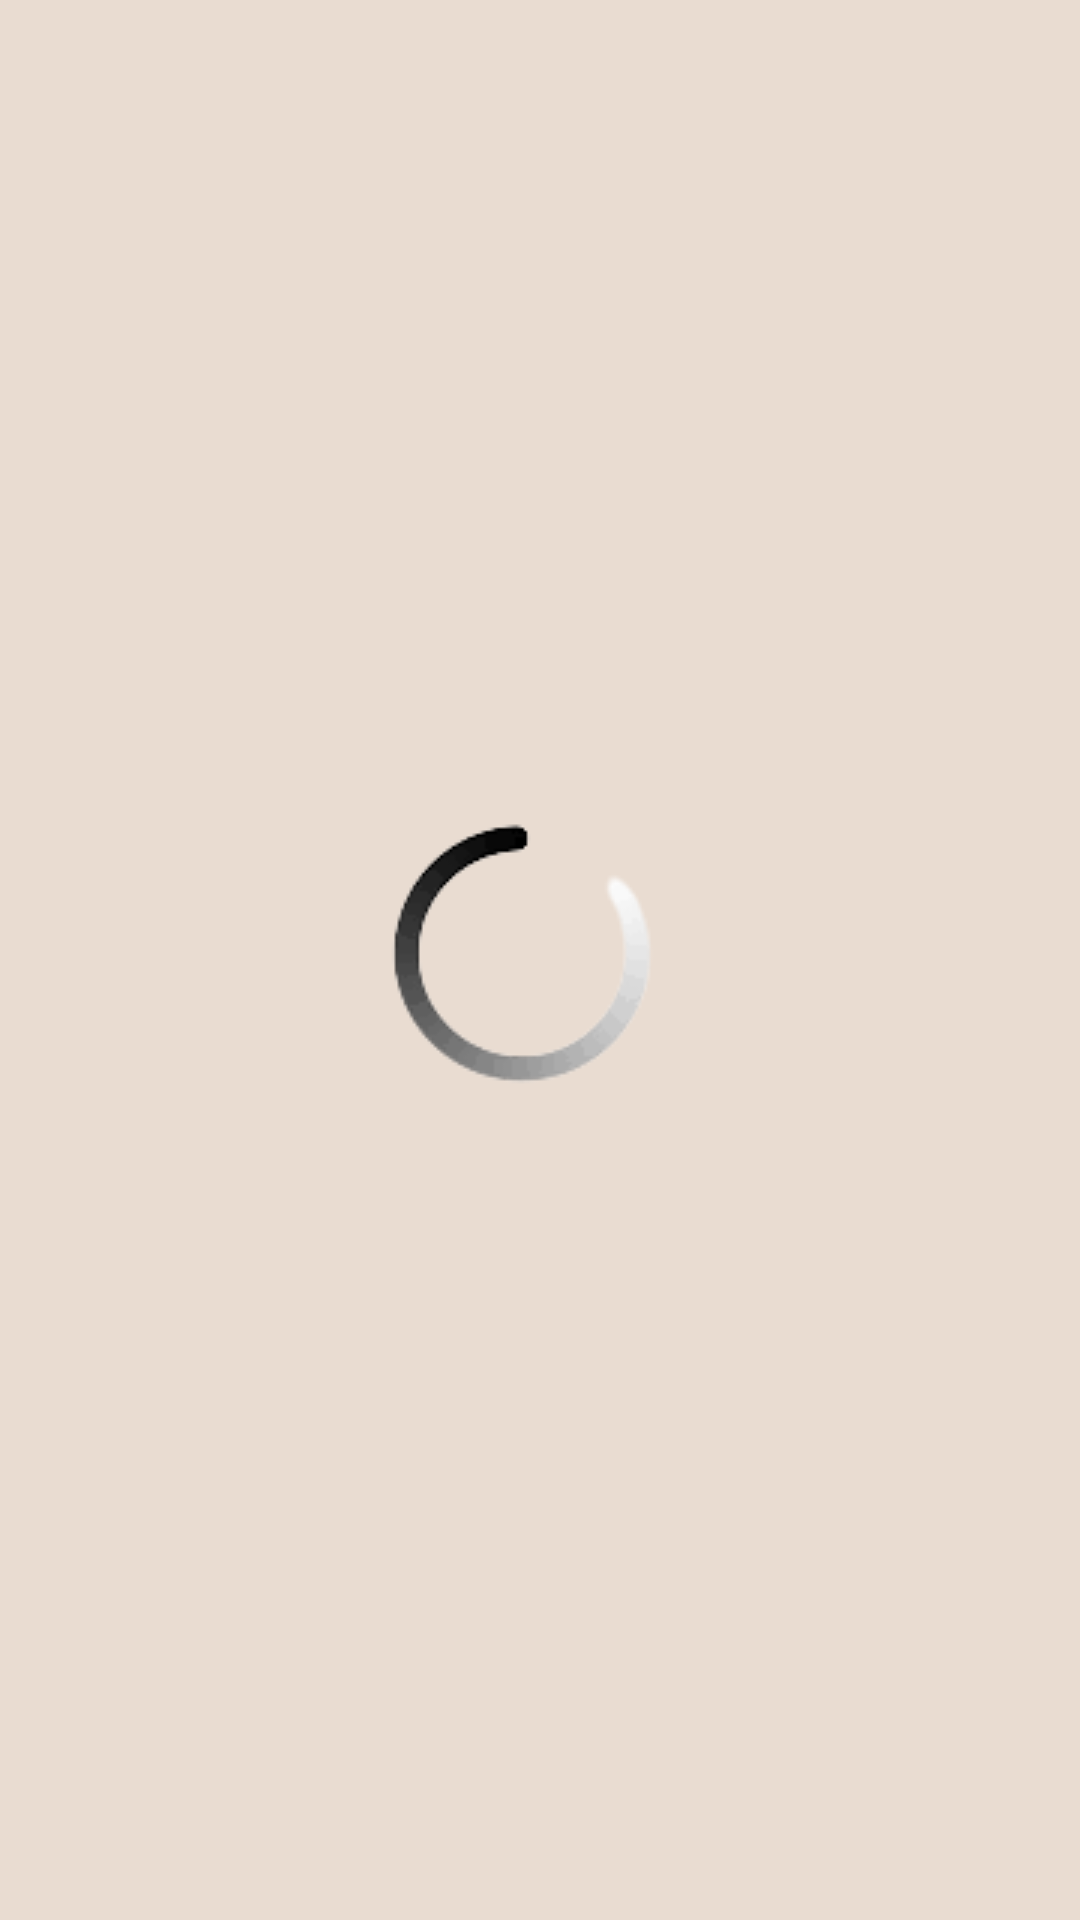

Locate icon controls on the screen. Image size 1080 × 1920, boxes as (x1, y1, x2, y2).
loading: (394, 824, 646, 1081)
